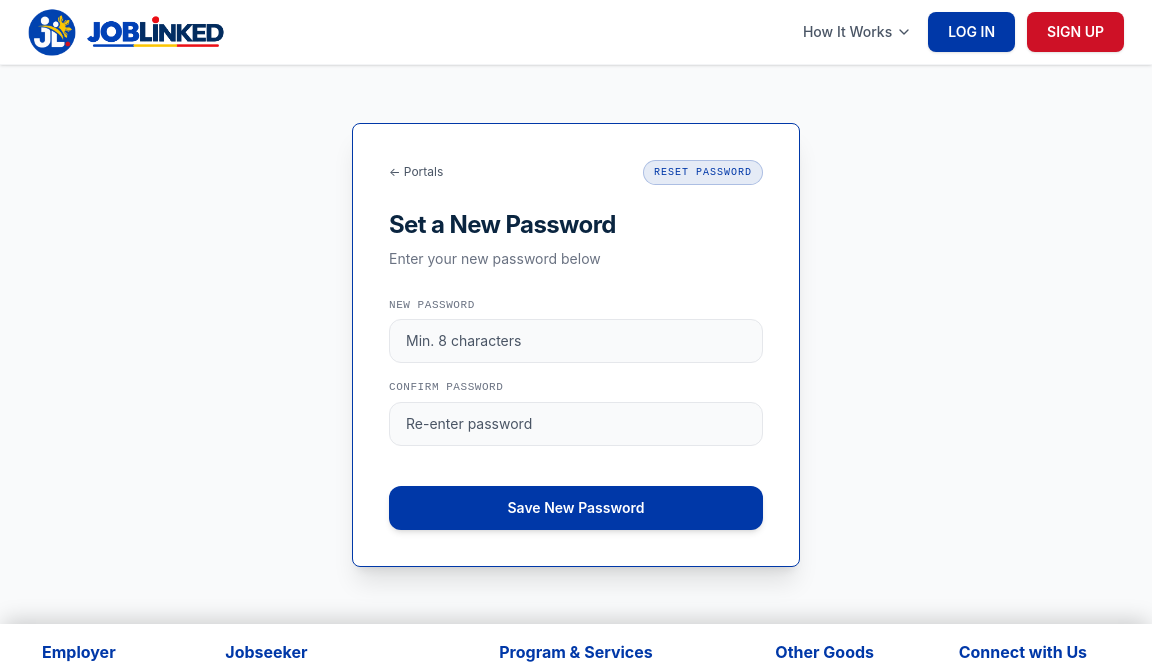
Test: ResetPassword › rejects passwords shorter than 8 characters
In the password field labelled "New Password": (576, 341) [389, 319, 763, 363], type "short"
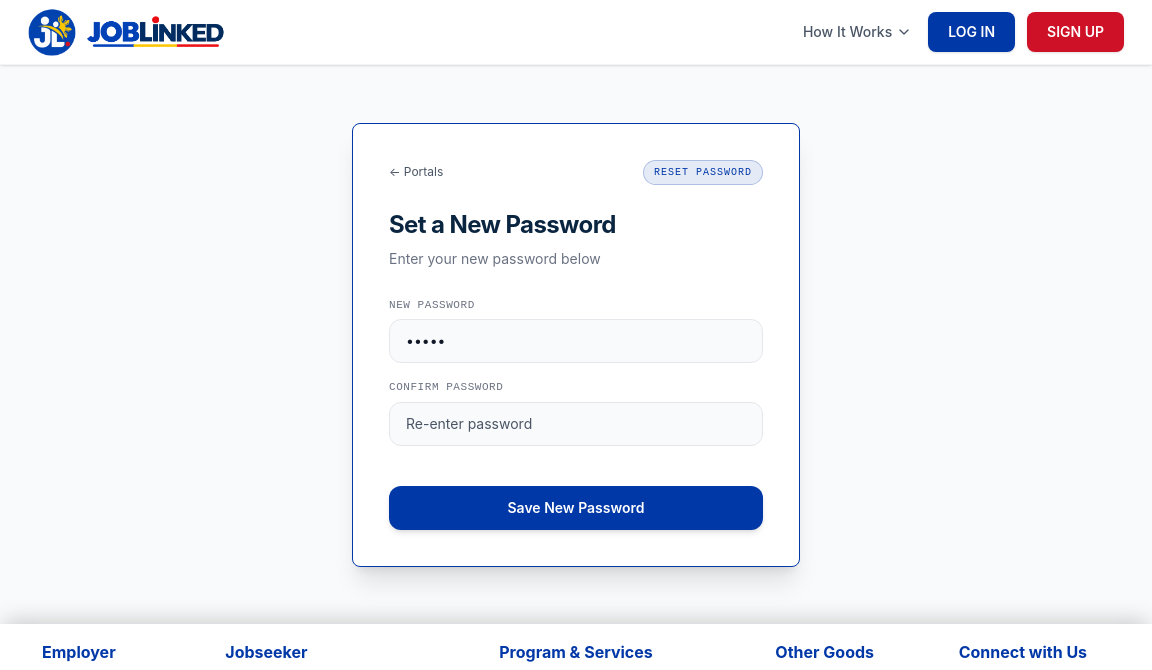
In the password field labelled "Confirm Password": (576, 424) [389, 402, 763, 446], type "short"
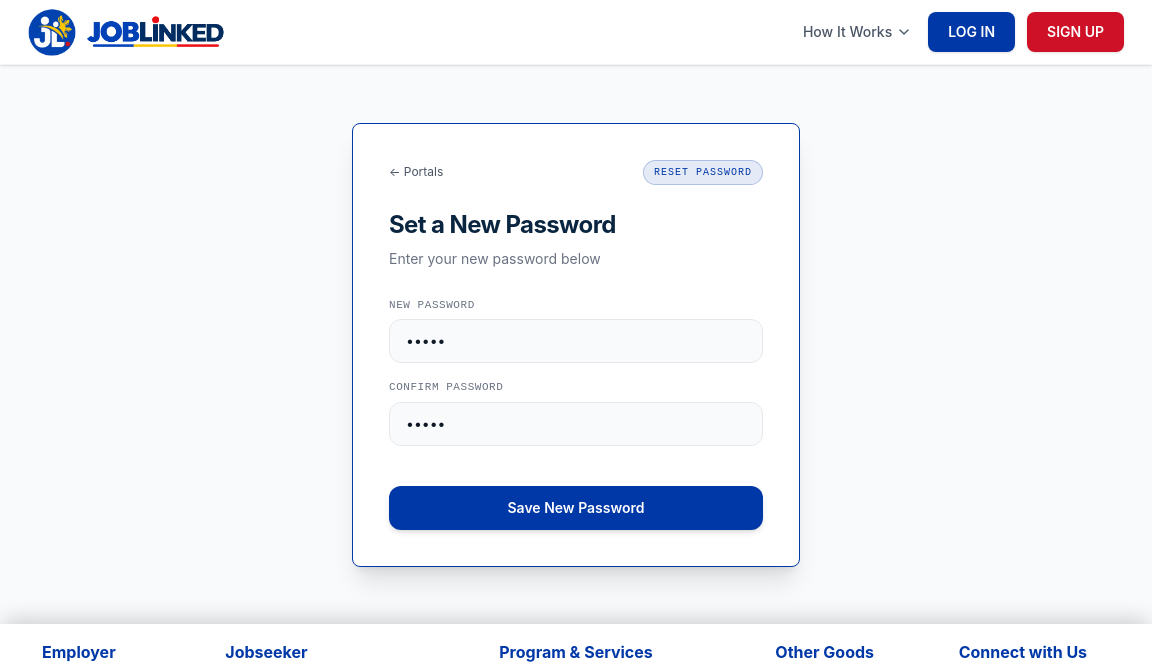
Click the button "Save New Password": (576, 508) [389, 486, 763, 530]
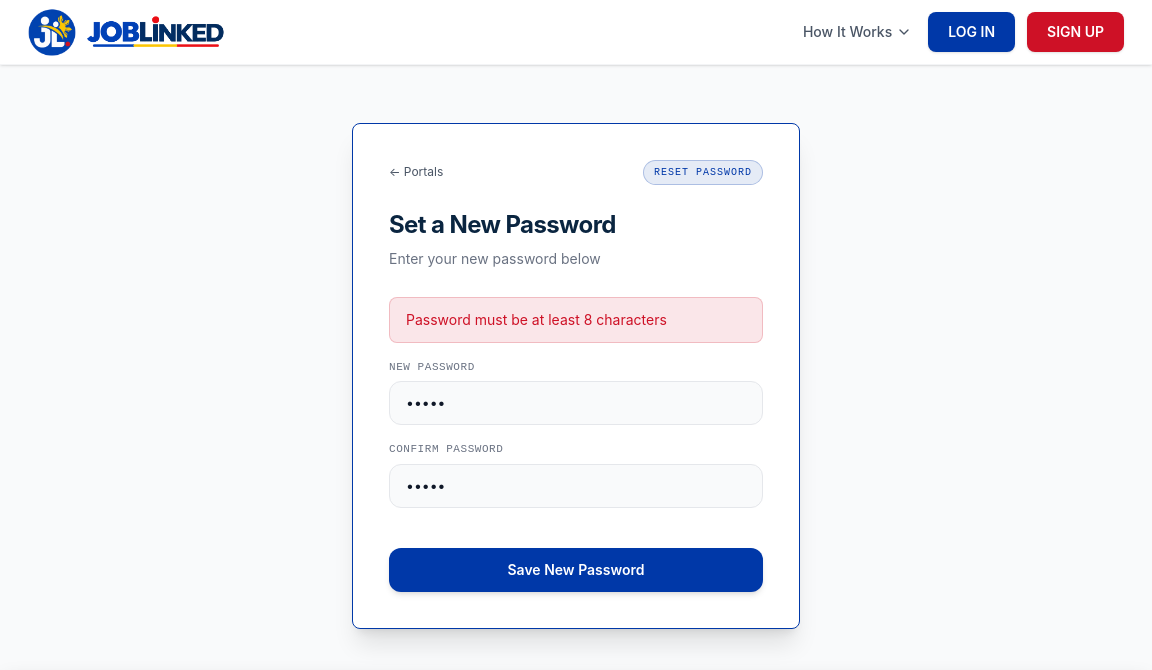
Result: the text "Password must be at least 8 characters" is shown at [389, 297, 763, 343]
